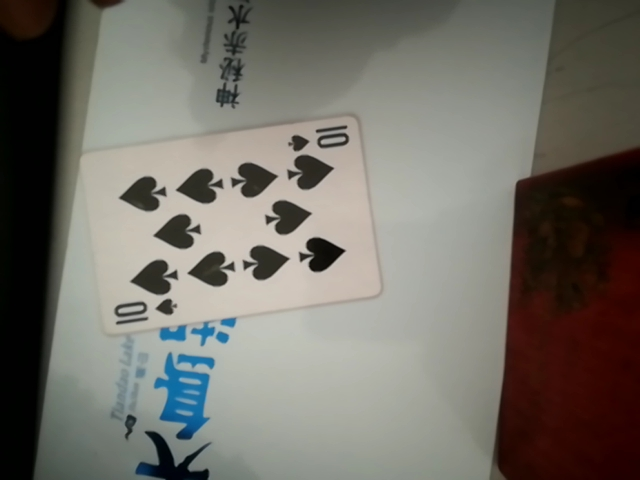ht 10: (72, 111, 390, 326)
